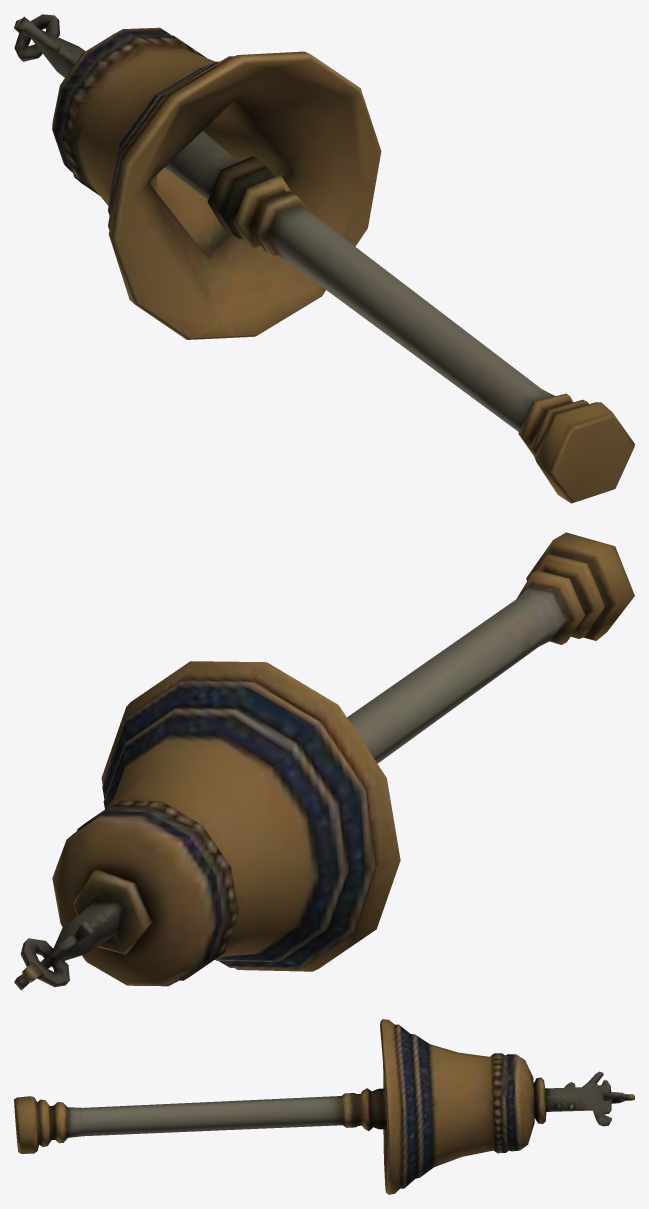
The model's file is g_warhammer.fbx.
3 views of the same model, one above another, from view 1: azimuth 30°, elevation 25°; view 2: azimuth 150°, elevation 25°; view 3: azimuth 270°, elevation 25° (orthographic). The views are drawn at different scales.
Parts seen in each view (by area): view 1: tripo_node_f7f1213c-046e-4aab-8022-c3e62e9404a5; view 2: tripo_node_f7f1213c-046e-4aab-8022-c3e62e9404a5; view 3: tripo_node_f7f1213c-046e-4aab-8022-c3e62e9404a5.
Part boxes in pixels (x1,y1,x2,y2): tripo_node_f7f1213c-046e-4aab-8022-c3e62e9404a5: (14,14,634,503); tripo_node_f7f1213c-046e-4aab-8022-c3e62e9404a5: (14,532,634,990); tripo_node_f7f1213c-046e-4aab-8022-c3e62e9404a5: (14,1019,634,1194).
Size of the model in its own units: 0.4281 by 0.4281 by 1.5.
Materials: 1 (1 with a texture image).
